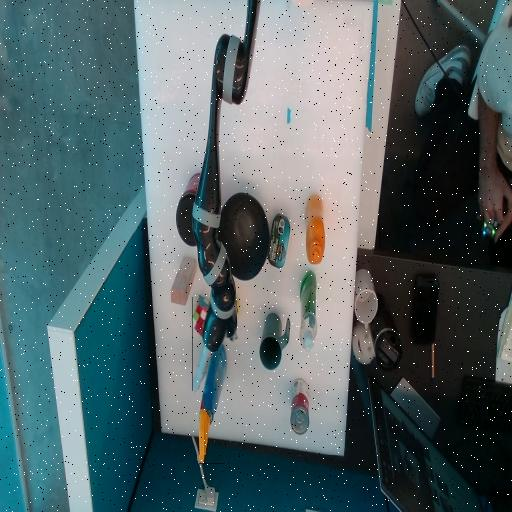bowl: (218, 194, 268, 279)
cleanser: (300, 271, 316, 351)
coffee_can: (175, 190, 214, 228)
jaco: (192, 297, 237, 391)
meat_can: (268, 214, 289, 267)
mug: (259, 313, 289, 369)
mustard_bottle: (305, 219, 324, 238)
rubik: (190, 305, 212, 327)
soup_can: (291, 379, 308, 434)
tennis_ball: (221, 294, 238, 324)
windex: (198, 345, 225, 463)
wooden_block: (170, 268, 195, 293)
workspace: (135, 3, 372, 455)
